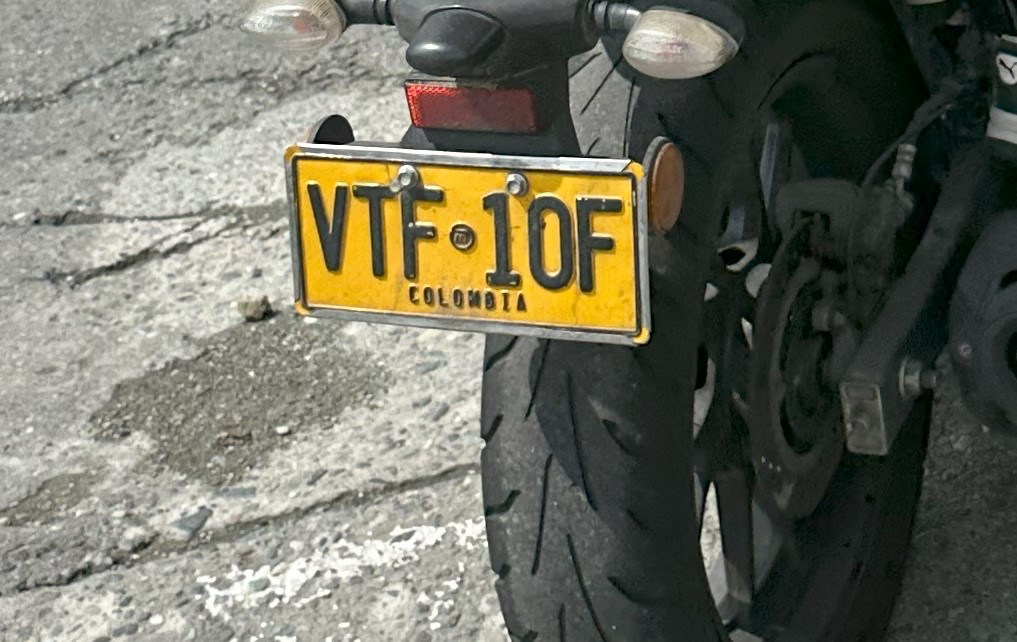number plate: (286, 144, 649, 344)
